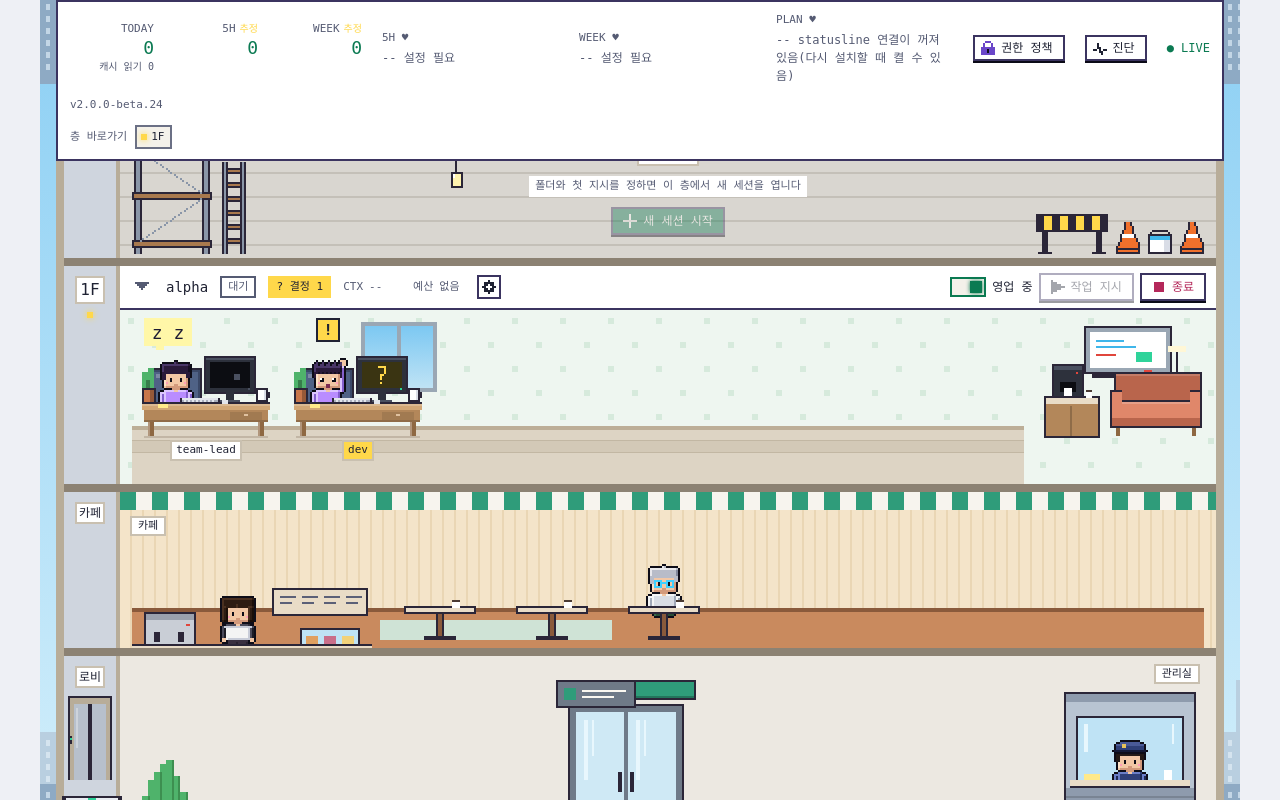
Test case: ActivityBubble (디자인 7.5) › 결정 대기면 노란 말풍선(q)과 안내 보조 줄
(page scrolled)
Focus the button with test id "desk-dev" at (358, 401), box [292, 318, 424, 484]
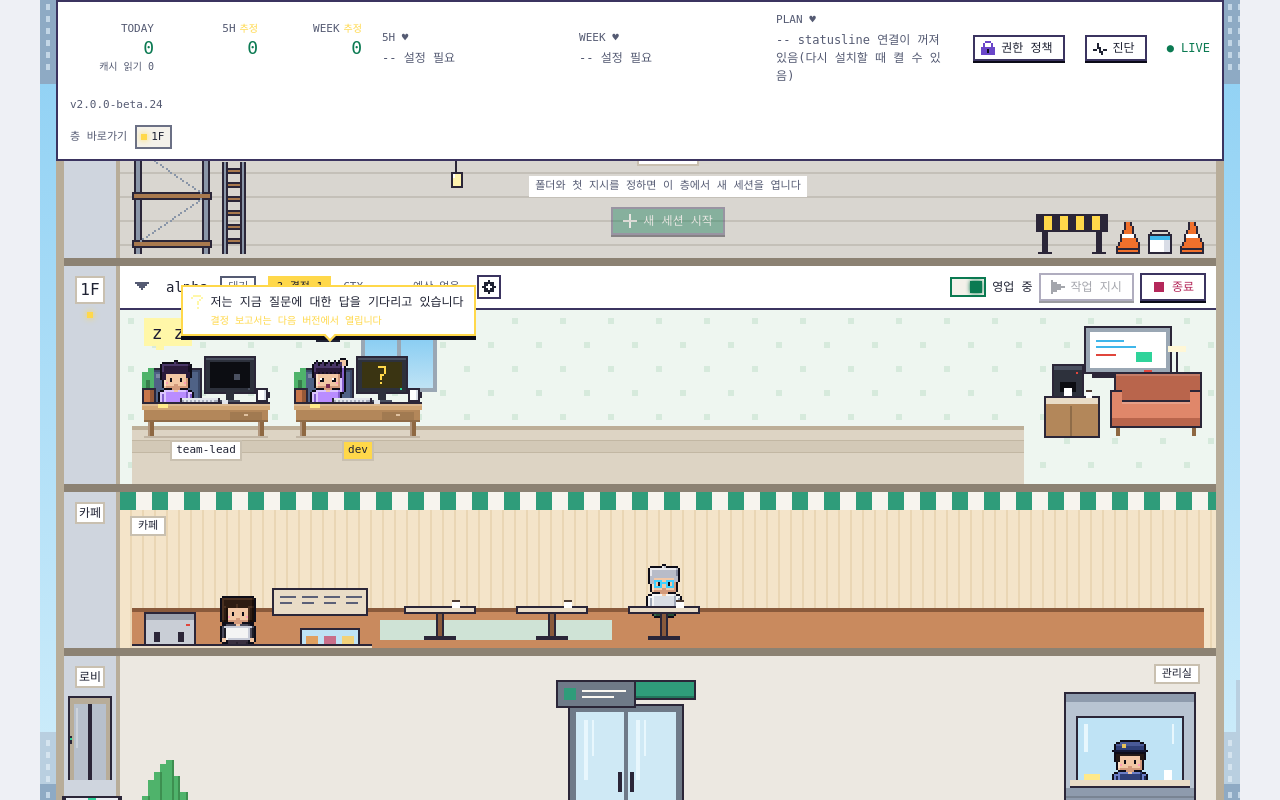
expect the text "저는 지금 질문에 대한 답을 기다리고 있습니다" is shown: met, box [210, 293, 464, 311]
expect the text with class "meta" reads "결정 보고서는 다음 버전에서 열립니다": met, box [210, 315, 382, 326]
